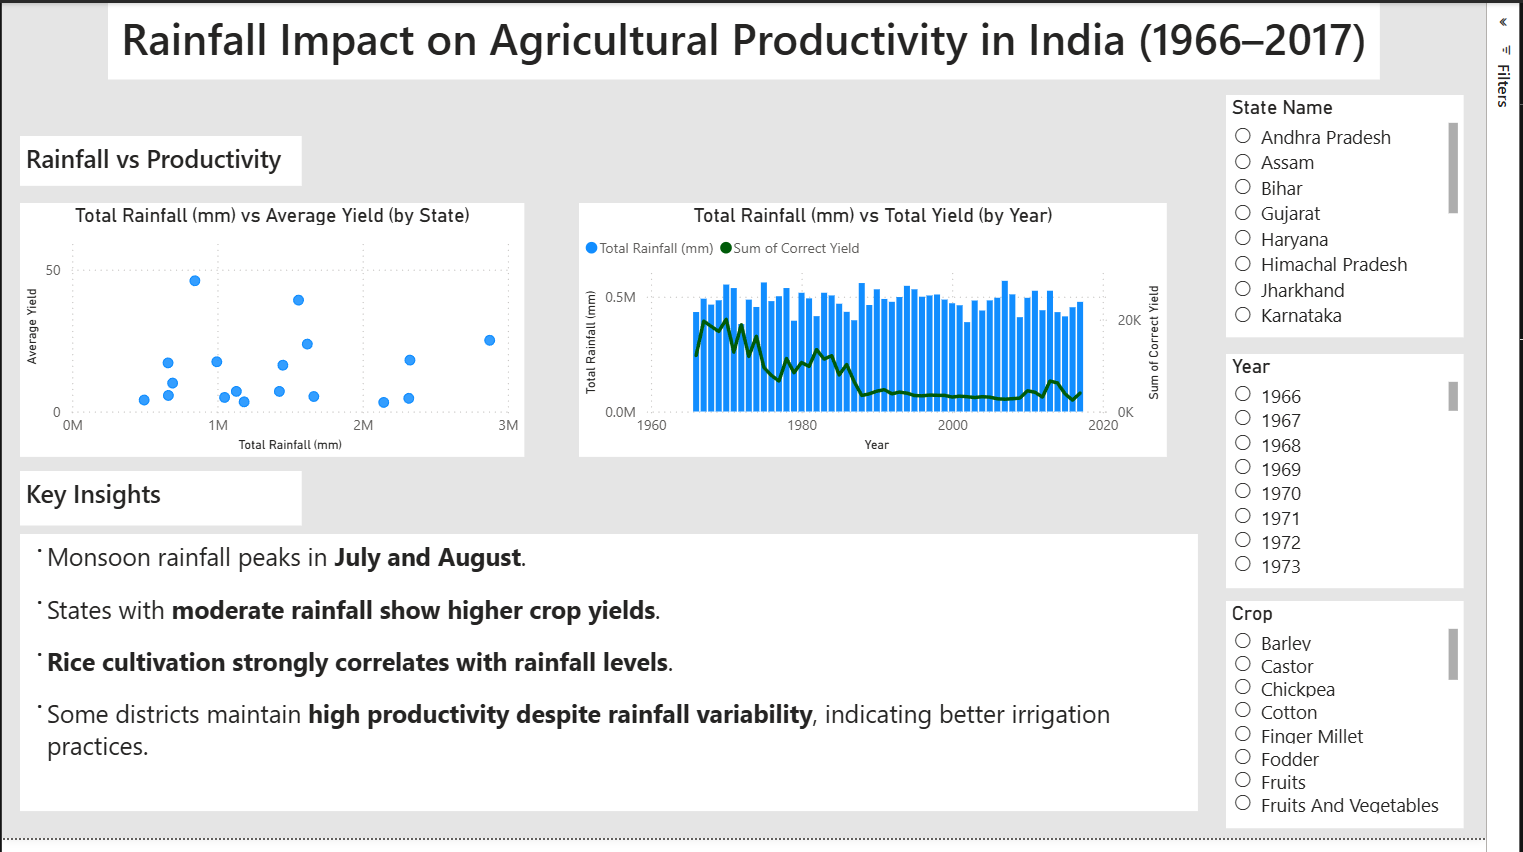

The dashboard page shown, as its layout file describes it:
{"tool":"powerbi","page":{"name":"Correlations and Key Insights","canvas":[1280,720],"ordinal":1},"visuals":[{"type":"textbox","box":[91.4,0,1097.1,66.1],"z":0},{"type":"textbox","box":[15.6,114.8,243.2,42.8],"z":1000},{"type":"listSlicer","fields":{"Values":["Dimension_Geography.State Name"]},"box":[1055.3,79.8,205.2,209.1],"z":2000},{"type":"listSlicer","fields":{"Values":["Fact_Agriculture.Year"]},"box":[1055.3,302.5,205.2,202.3],"z":3000},{"type":"listSlicer","fields":{"Values":["Fact_Agriculture.Crop"]},"box":[1055.3,515.5,205.2,196.5],"z":4000},{"type":"scatterChart","title":"Total Rainfall (mm) vs Average Yield (by State)","fields":{"Y":["Fact_Agriculture.Average Yield"],"Category":["Dimension_Geography.State Name"],"X":["Fact_Agriculture.Total Rainfall (mm)"]},"box":[15.6,172.2,434.8,218.8],"z":5000},{"type":"lineClusteredColumnComboChart","title":"Total Rainfall (mm) vs Total Yield (by Year)","fields":{"Category":["Fact_Agriculture.Year"],"Y":["Fact_Agriculture.Total Rainfall (mm)"],"Y2":["Sum(Fact_Agriculture.Correct Yield)"]},"box":[498,172.2,506.7,218.8],"z":6000},{"type":"textbox","box":[15.6,403.6,243.2,46.7],"z":7000},{"type":"textbox","box":[15.6,458.1,1016.4,239.3],"z":8000}]}

Visuals, with their boxes on the page's 1280x720 design canvas (x1, y1, x2, y2). These are canvas units, not pixel positions in the 1523x852 screenshot, which may show the page scaled, cropped or inside an application window:
textbox: l=91, t=0, r=1188, b=66
textbox: l=16, t=115, r=259, b=158
listSlicer - Dimension_Geography.State Name: l=1055, t=80, r=1260, b=289
listSlicer - Fact_Agriculture.Year: l=1055, t=302, r=1260, b=505
listSlicer - Fact_Agriculture.Crop: l=1055, t=516, r=1260, b=712
"Total Rainfall (mm) vs Average Yield (by State)" scatterChart: l=16, t=172, r=450, b=391
"Total Rainfall (mm) vs Total Yield (by Year)" lineClusteredColumnComboChart: l=498, t=172, r=1005, b=391
textbox: l=16, t=404, r=259, b=450
textbox: l=16, t=458, r=1032, b=697
